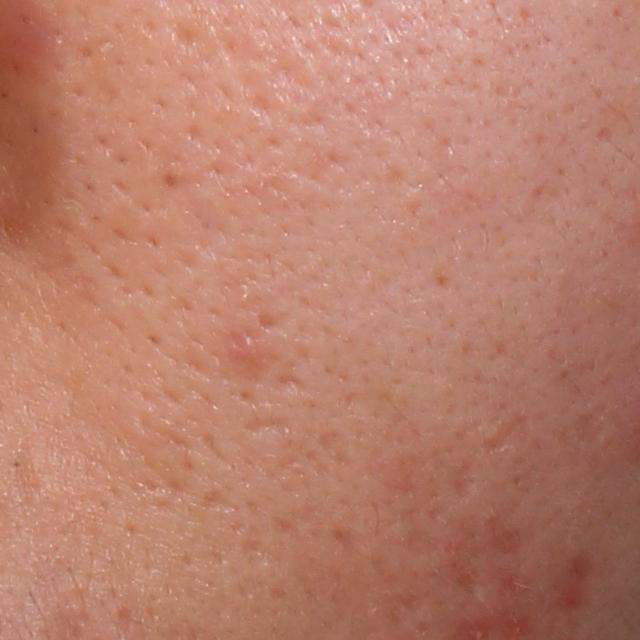atrophic_scar: (482, 411, 542, 454), (446, 447, 479, 507), (242, 414, 293, 442), (276, 374, 305, 396)
papule: (229, 328, 267, 374)
